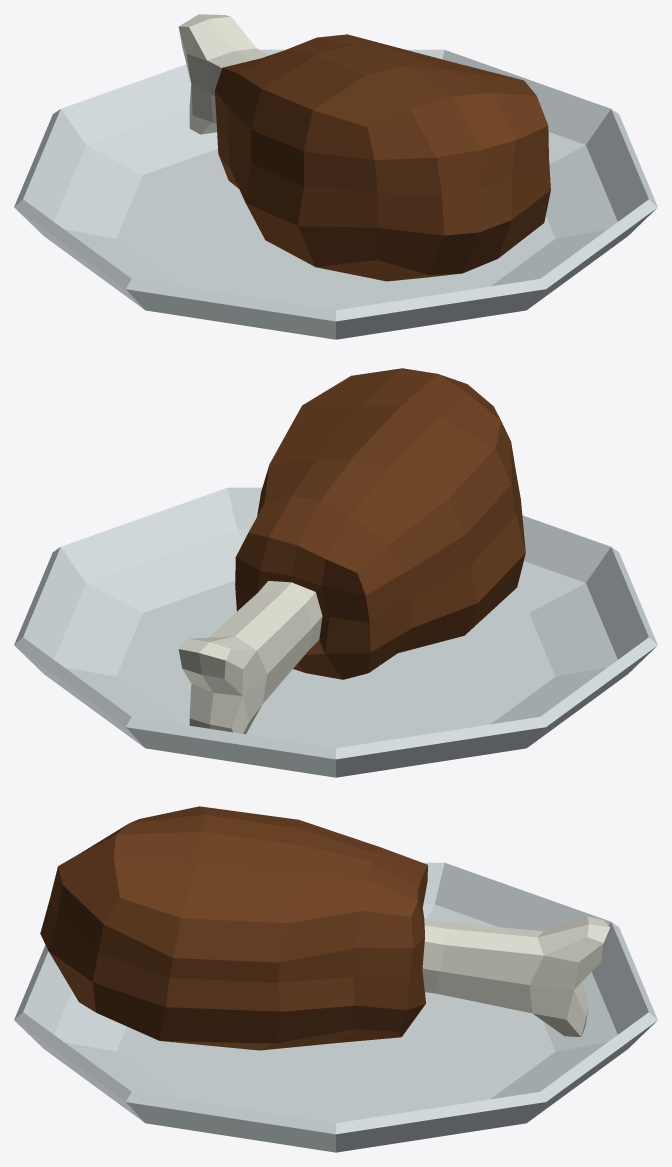
The model's file is spacemeat_leg.glb.
3 views of the same model, one above another, from view 1: azimuth 30°, elevation 25°; view 2: azimuth 150°, elevation 25°; view 3: azimuth 270°, elevation 25° (orthographic).
Visible parts, largest first — view 1: Cube.001; view 2: Cube.001; view 3: Cube.001.
Boxes of the visible parts, box(x1,y1,x2,y2) form: Cube.001: box(14, 14, 657, 339); Cube.001: box(14, 368, 657, 777); Cube.001: box(14, 806, 657, 1152).
Size of the model in its own units: 0.6307 by 0.2459 by 0.6404.
Materials: 1 (1 with a texture image).
